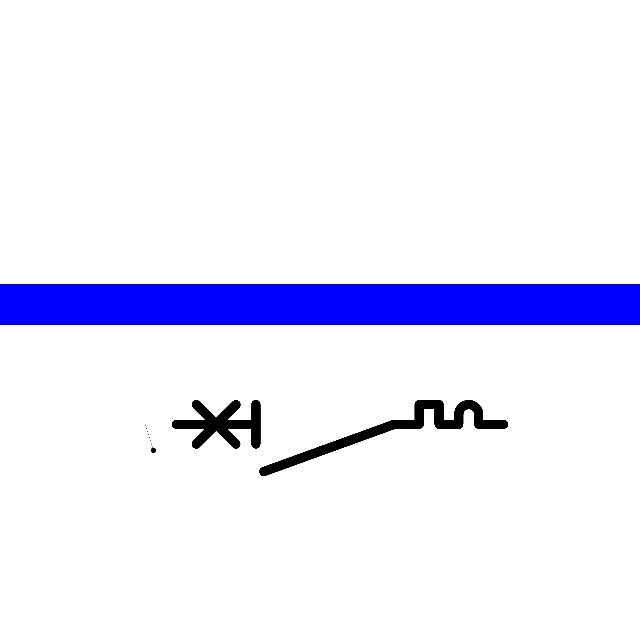interruptor_termomagnetico: (167, 396, 511, 480)
